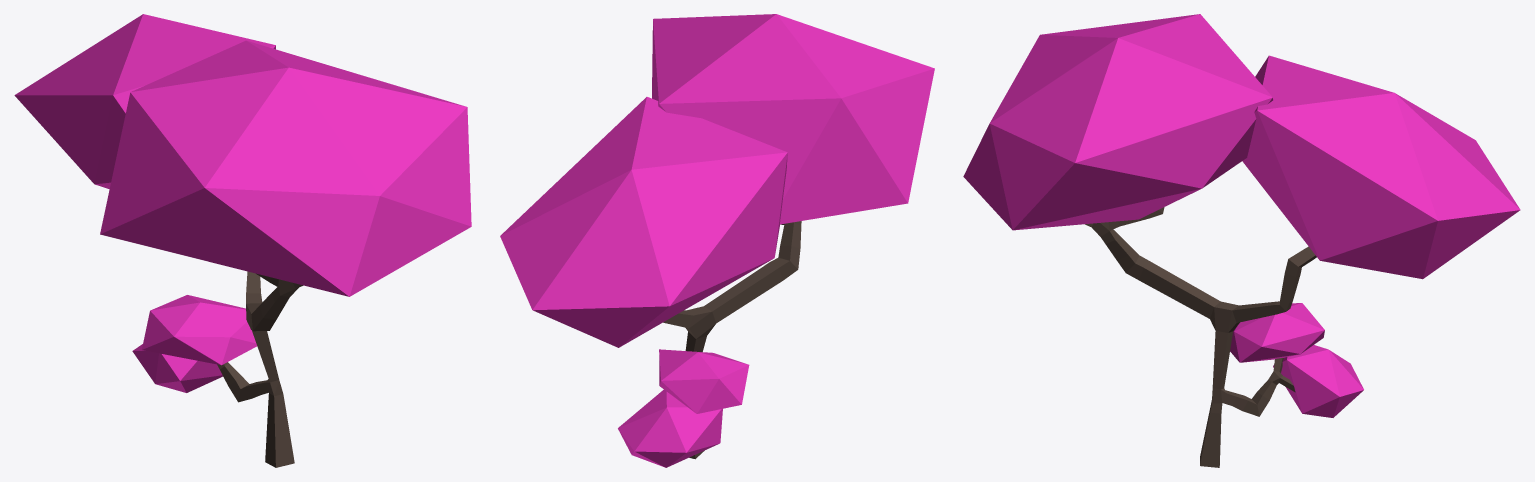
File: Arbol 1.fbx
3 renders of one model, left to right at view 1: azimuth 30°, elevation 25°; view 2: azimuth 150°, elevation 25°; view 3: azimuth 270°, elevation 25°, orthographic. The views are drawn at different scales.
Parts seen in each view (by area): view 1: polySurface6; view 2: polySurface6; view 3: polySurface6.
Boxes of the visible parts, <box> form: polySurface6: <box>14,14,471,467</box>; polySurface6: <box>500,14,934,467</box>; polySurface6: <box>963,14,1520,467</box>.
Bounding box in the file's own units: 28.42 × 37.57 × 46.58.
